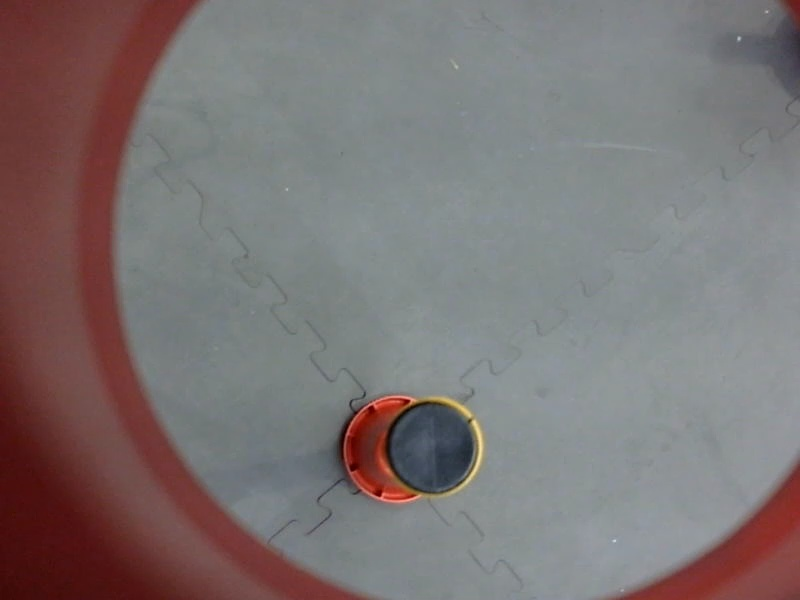tip: (383, 391, 489, 500)
